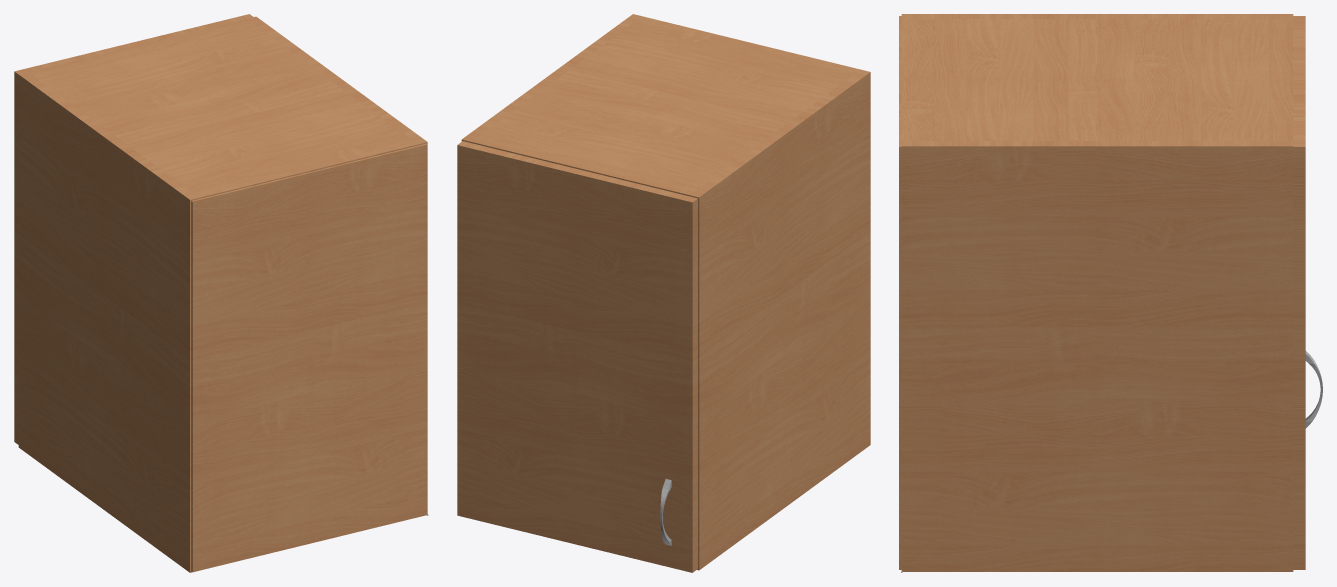
File: antresol_dlya_shkafa_3.glb
3 renders of one model, left to right at view 1: azimuth 30°, elevation 25°; view 2: azimuth 150°, elevation 25°; view 3: azimuth 270°, elevation 25°, orthographic. The views are drawn at different scales.
Parts seen in each view (by area): view 1: Shape_IndexedFaceSet.002_NON, Shape_IndexedFaceSet.004, Shape_IndexedFaceSet.006, Shape_IndexedFaceSet.001, Shape_IndexedFaceSet.003; view 2: Shape_IndexedFaceSet.001, Shape_IndexedFaceSet.004, Shape_IndexedFaceSet.006, Shape_IndexedFaceSet.003; view 3: Shape_IndexedFaceSet.003, Shape_IndexedFaceSet.006, Shape_IndexedFaceSet.001, Shape_IndexedFaceSet.004, Shape_IndexedFaceSet.002_NON.
Part boxes in pixels (x1,y1,x2,y2): Shape_IndexedFaceSet.002_NON: (191,143,427,572); Shape_IndexedFaceSet.004: (18,72,199,572); Shape_IndexedFaceSet.006: (28,19,418,198); Shape_IndexedFaceSet.001: (14,14,252,444); Shape_IndexedFaceSet.003: (247,16,427,145); Shape_IndexedFaceSet.001: (457,141,697,572); Shape_IndexedFaceSet.004: (689,69,870,570); Shape_IndexedFaceSet.006: (471,16,860,196); Shape_IndexedFaceSet.003: (461,14,641,142); Shape_IndexedFaceSet.003: (901,141,1293,571); Shape_IndexedFaceSet.006: (901,19,1293,140); Shape_IndexedFaceSet.001: (1293,16,1305,569); Shape_IndexedFaceSet.004: (901,14,1293,19); Shape_IndexedFaceSet.002_NON: (899,16,901,569).
Bounding box in the file's own units: 401 × 601 × 541.
9 materials, 8 textured.
